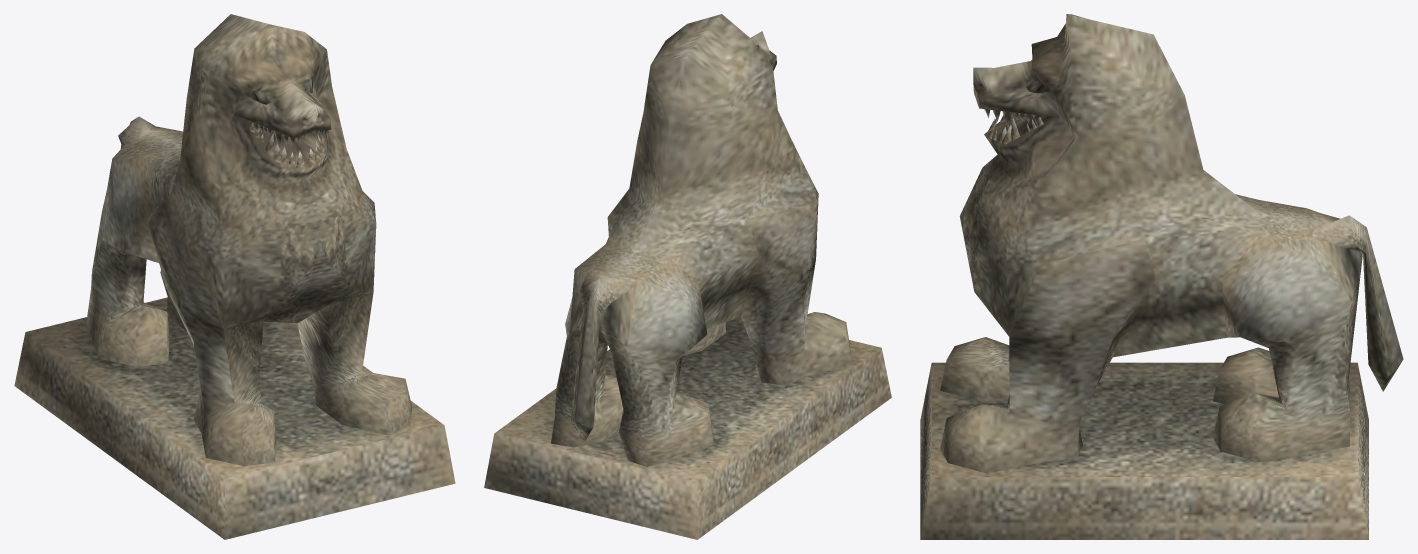
Rendered from desert_lionstone.fbx.
3 views of the same model, side by side, from view 1: azimuth 30°, elevation 25°; view 2: azimuth 150°, elevation 25°; view 3: azimuth 270°, elevation 25° (orthographic). The views are drawn at different scales.
Parts seen in each view (by area): view 1: Bip01; view 2: Bip01; view 3: Bip01.
Boxes of the visible parts, <box> form: Bip01: <box>14,14,455,539</box>; Bip01: <box>484,14,891,539</box>; Bip01: <box>920,14,1403,539</box>.
Bounding box in the file's own units: 2.77 × 5.01 × 4.71.
